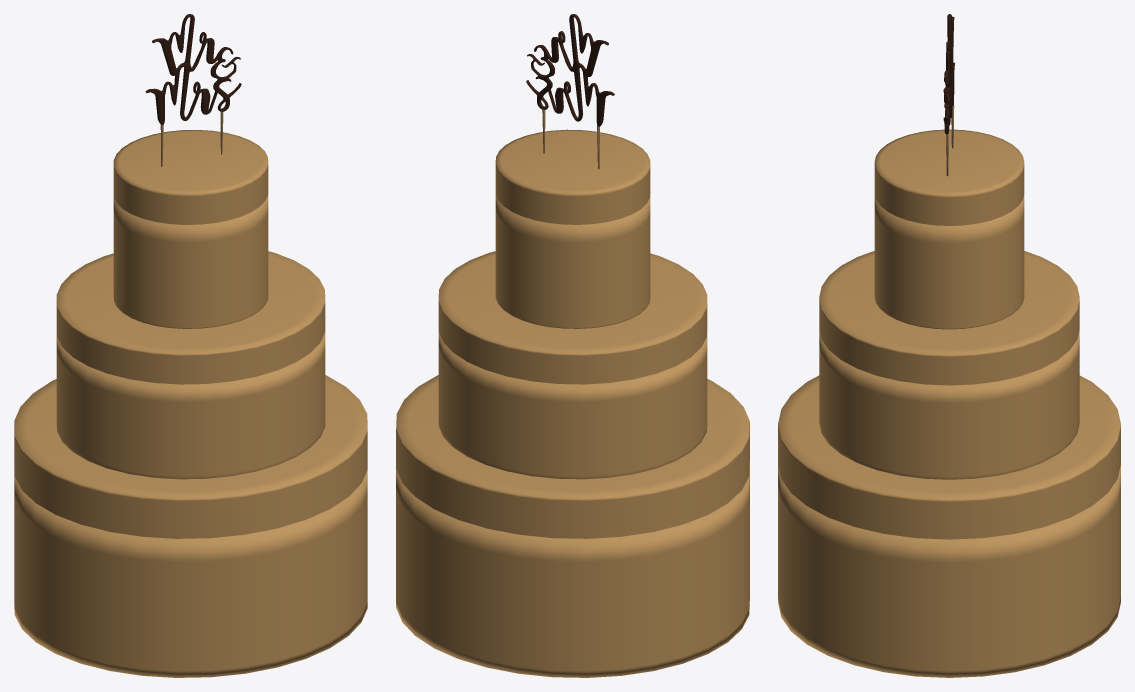
File: 3-tier-caramel-none-mrms.glb
3 views of the same model, side by side, from view 1: azimuth 30°, elevation 25°; view 2: azimuth 150°, elevation 25°; view 3: azimuth 270°, elevation 25° (orthographic).
Parts seen in each view (by area): view 1: Cylinder.022, Cylinder.014, Cylinder.021, mrms.003; view 2: Cylinder.022, Cylinder.014, Cylinder.021, mrms.003; view 3: Cylinder.022, Cylinder.014, Cylinder.021, mrms.003.
Boxes of the visible parts, <box> form: Cylinder.022: <box>14,375,367,677</box>; Cylinder.014: <box>56,251,325,479</box>; Cylinder.021: <box>113,130,268,328</box>; mrms.003: <box>145,14,241,166</box>; Cylinder.022: <box>396,375,749,677</box>; Cylinder.014: <box>438,251,707,479</box>; Cylinder.021: <box>495,129,650,328</box>; mrms.003: <box>526,14,614,169</box>; Cylinder.022: <box>778,375,1120,677</box>; Cylinder.014: <box>819,251,1079,479</box>; Cylinder.021: <box>874,129,1024,329</box>; mrms.003: <box>943,14,954,176</box>.
Bounding box in the file's own units: 4.22 × 7.67 × 4.06.
